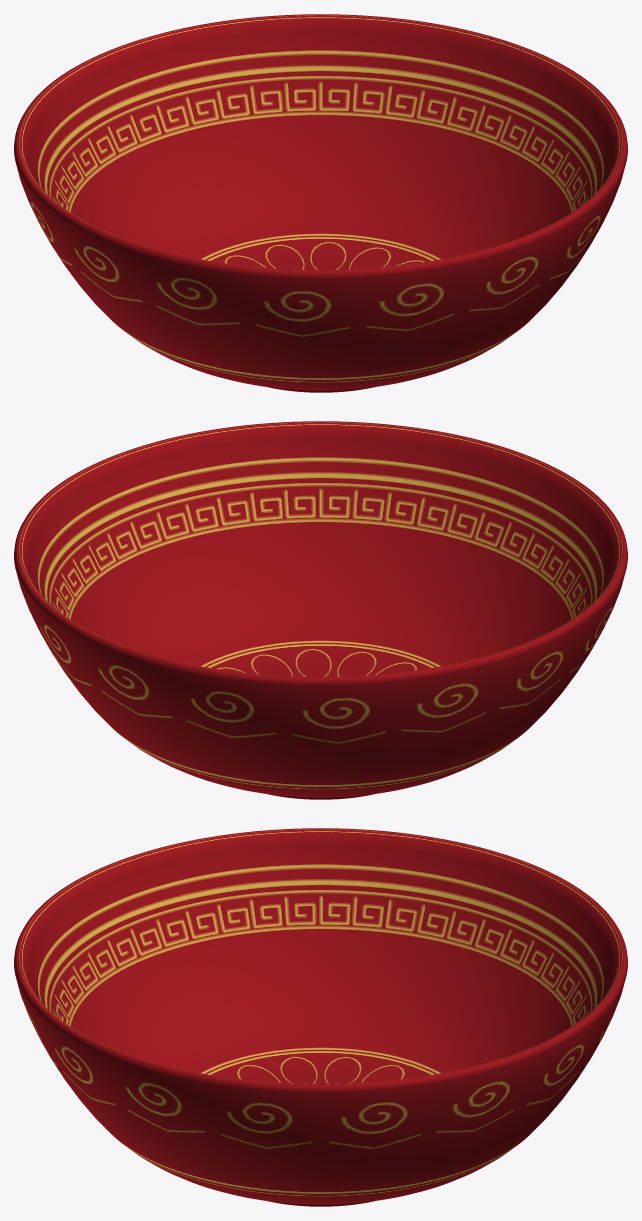
Rendered from bowl-visual.glb.
3 views of the same model, one above another, from view 1: azimuth 30°, elevation 25°; view 2: azimuth 150°, elevation 25°; view 3: azimuth 270°, elevation 25° (orthographic).
Parts seen in each view (by area): view 1: Bowl_Visual; view 2: Bowl_Visual; view 3: Bowl_Visual.
Part boxes in pixels (x1,y1,x2,y2): Bowl_Visual: [14, 14, 627, 392]; Bowl_Visual: [14, 421, 627, 799]; Bowl_Visual: [14, 828, 627, 1206].
Bounding box in the file's own units: 0.36 × 0.1302 × 0.36.
1 material, 1 textured.
